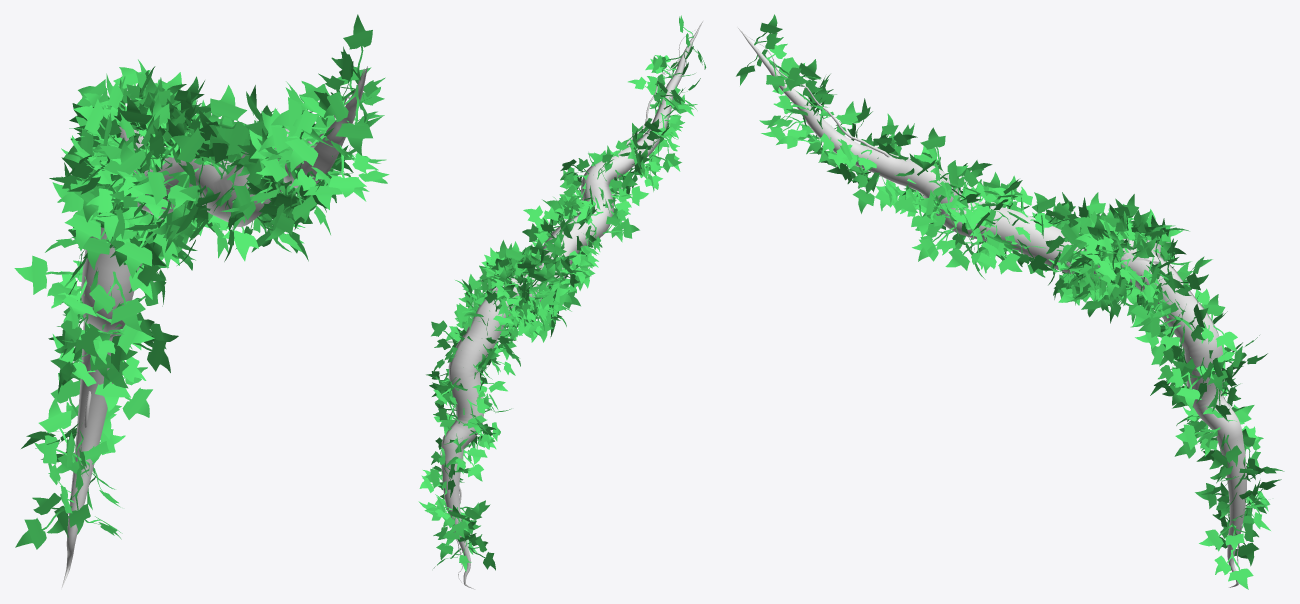
Rendered from VineDeco8.fbx.
3 renders of one model, left to right at view 1: azimuth 30°, elevation 25°; view 2: azimuth 150°, elevation 25°; view 3: azimuth 270°, elevation 25°, orthographic. The views are drawn at different scales.
Parts seen in each view (by area): view 1: BézierCurve.019; view 2: BézierCurve.019; view 3: BézierCurve.019.
Part boxes in pixels (<box>): BézierCurve.019: <box>14,14,389,588</box>; BézierCurve.019: <box>418,15,706,589</box>; BézierCurve.019: <box>736,14,1284,589</box>.
Bounding box in the file's own units: 185 × 697 × 620.
